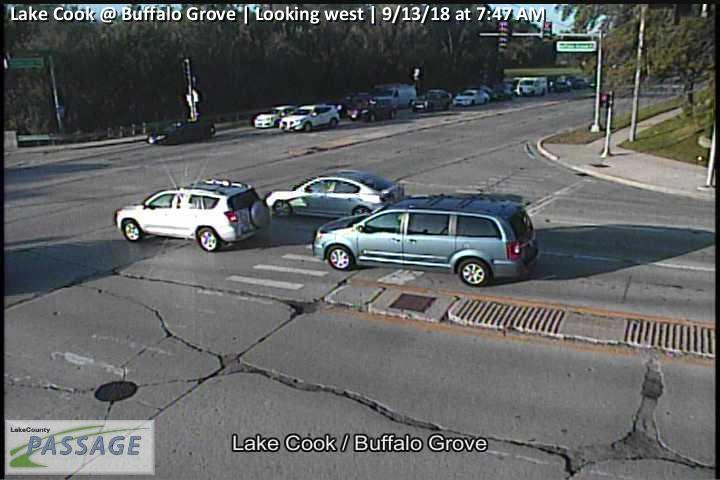SUV: (313, 194, 538, 288), (113, 176, 268, 252), (278, 102, 341, 133), (346, 97, 398, 123), (407, 89, 452, 113), (516, 76, 548, 96)
Sedan: (264, 171, 403, 220), (147, 120, 216, 146), (253, 105, 300, 128), (452, 88, 490, 107)
Truck: (366, 82, 416, 114)
